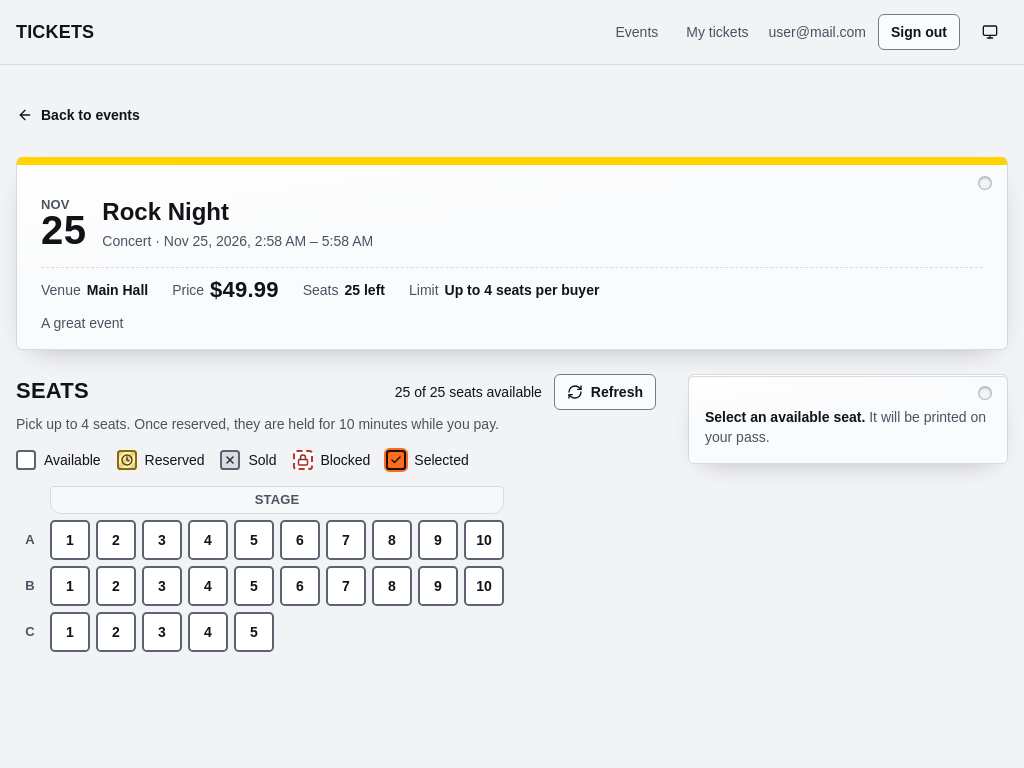
Scenario: SelectionPass › prints the seat and the price, with Reserve enabled
The image size is (1024, 768).
Click the button named "Seat C3, Available" at (162, 632), box [142,612,182,652]
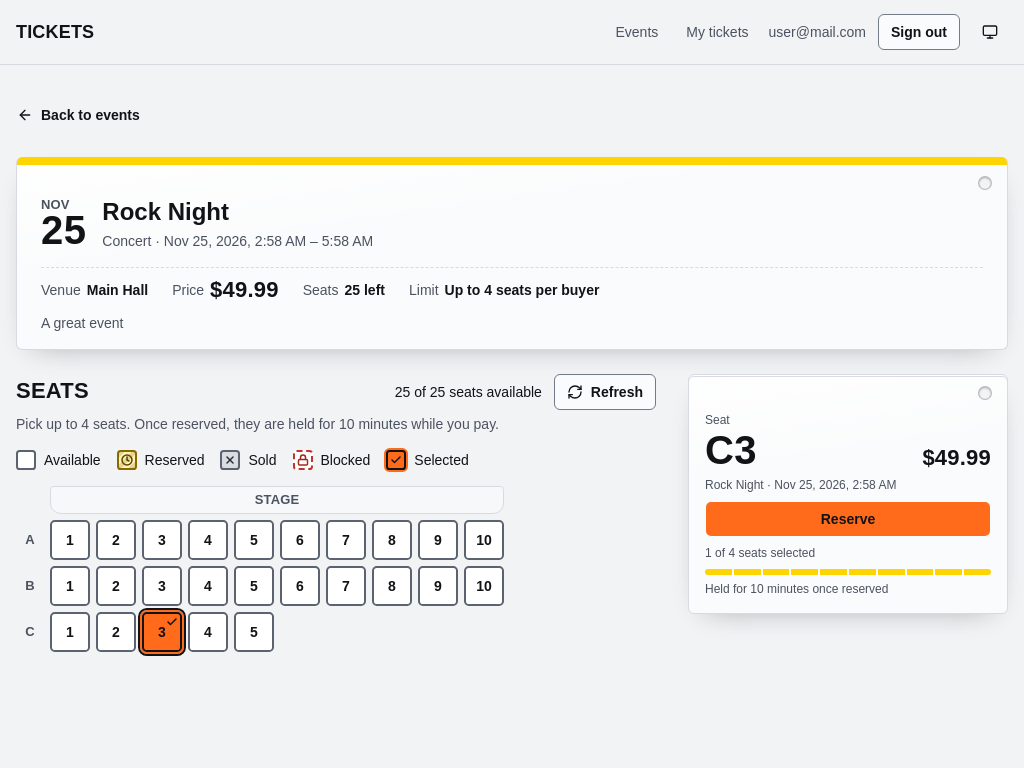
Now the text "C3" is shown, box [705,428,757,472]
Now the text "$49.99" in the row of "C3" is shown, box [922,445,991,470]
Now the button "Reserve" is enabled, box [705,501,991,537]
